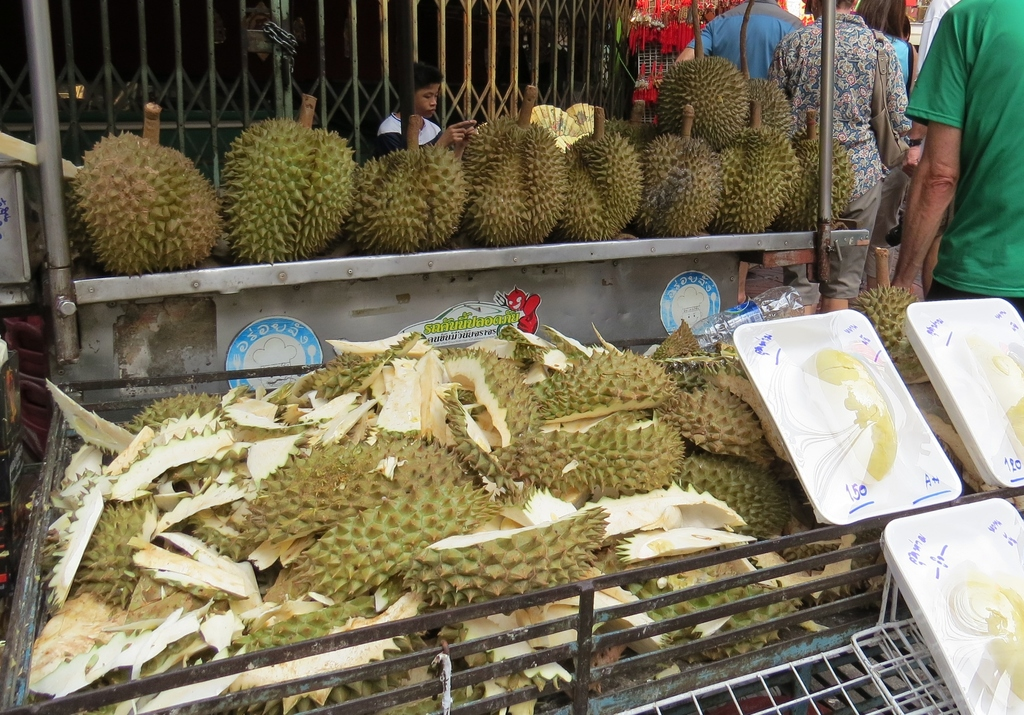Person: (672, 0, 1024, 321), (375, 60, 478, 163)
